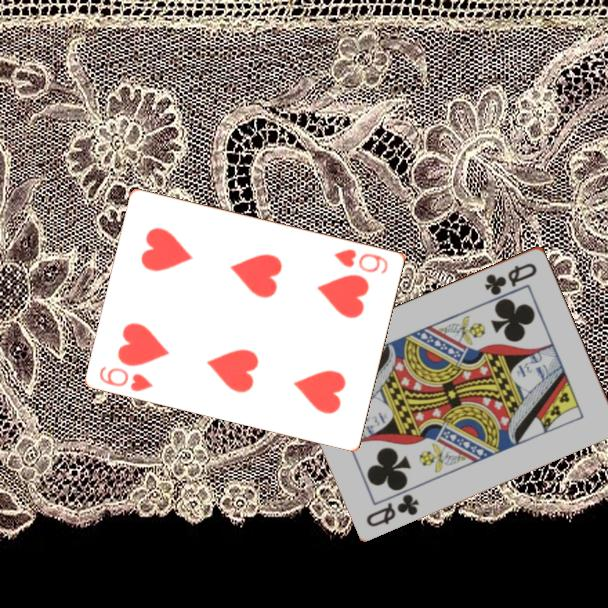c12: (481, 259, 540, 298), (363, 490, 422, 529)
h06: (331, 245, 391, 277), (96, 362, 156, 394)
